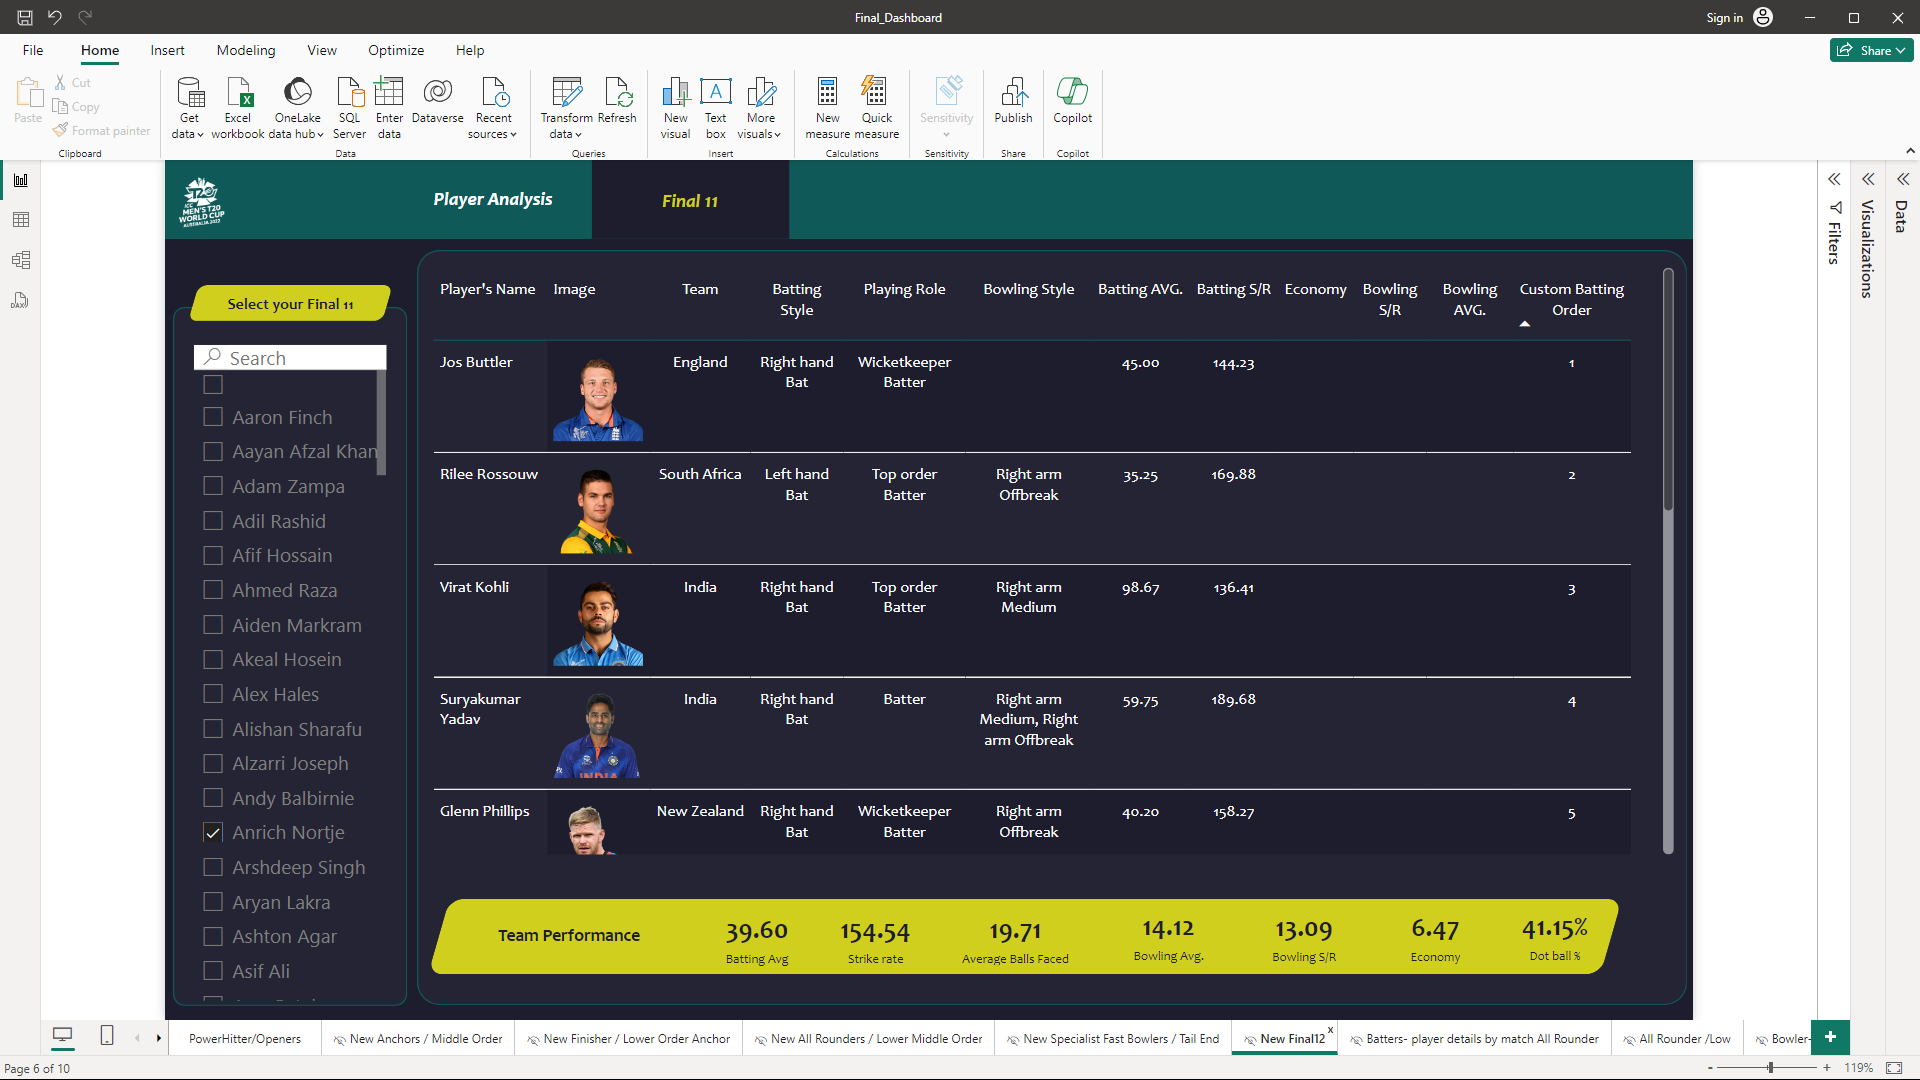

Layout of this report page (visuals, bound fields, positions):
{"tool":"powerbi","page":{"name":"New Final12","canvas":[1280,720],"ordinal":5},"visuals":[{"type":"shape","box":[0,66,1280,654],"z":0},{"type":"image","box":[6.9,6.9,48,58.8],"z":1000},{"type":"shape","box":[7,122.9,196,585.1],"z":1000,"group":"g1"},{"type":"shape","box":[210.7,75.5,1063.4,632.2],"z":2000},{"type":"actionButton","title":"Button Player Ana selected","box":[357,0,166,66],"z":3000},{"type":"actionButton","title":"Button Player Ana selected","box":[191.4,0,165.7,65.7],"z":4000},{"type":"group","id":"g1","title":"Group 1","box":[7,122.9,196,585.1],"z":6000},{"type":"shape","box":[19.6,104.9,171.5,30.4],"z":7000},{"type":"pivotTable","fields":{"Values":["Min(dim_player.team)","Min(dim_player.Batting Style)","Min(dim_player.Playing Role)","Min(dim_player.Bowling Style)","Key_Measures.Bat Avg","Key_Measures.Strike rate","Key_Measures.Economy","Key_Measures.Bowling Strike Rate","Key_Measures.Bowling Average","Sum(dim_player.Custom Batting Order)"],"Rows":["dim_player.name","dim_player.image"]},"box":[219.9,85.4,1048,501.1],"z":8000},{"type":"shape","box":[219.9,618.4,999.7,63],"z":9000},{"type":"card","fields":{"Values":["Key_Measures.Strike rate"]},"box":[548.4,620.2,93,60],"z":10000},{"type":"slicer","fields":{"Values":["dim_player.name"]},"box":[19.7,149.3,170.5,558.7],"z":11000,"group":"g1"},{"type":"card","fields":{"Values":["Key_Measures.Avergate Balls Faced"]},"box":[657.3,621.9,109.5,56.9],"z":11000},{"type":"card","fields":{"Values":["Key_Measures.Bat Avg"]},"box":[449.4,620.2,92,60],"z":12000},{"type":"card","fields":{"Values":["Key_Measures.Bowling Strike Rate"]},"box":[907.4,618.4,92.3,60.4],"z":13000},{"type":"card","fields":{"Values":["Key_Measures.Economy"]},"box":[1012.6,618.4,100.9,60.4],"z":14000},{"type":"card","fields":{"Values":["Key_Measures.Dot ball %"]},"box":[1113.5,617.6,100.1,60.4],"z":15000},{"type":"card","fields":{"Values":["Key_Measures.Bowling Average"]},"box":[794.4,617.6,91.4,60.4],"z":16000},{"type":"shape","box":[251.8,632.1,172.5,34.3],"z":17000}]}

Visuals, with their boxes on the page's 1280x720 design canvas (x1, y1, x2, y2). These are canvas units, not pixel positions in the 1920x1080 screenshot, which may show the page scaled, cropped or inside an application window:
shape: (x1=0, y1=66, x2=1280, y2=720)
image: (x1=7, y1=7, x2=55, y2=66)
shape: (x1=7, y1=123, x2=203, y2=708)
shape: (x1=211, y1=76, x2=1274, y2=708)
"Button Player Ana selected" actionButton: (x1=357, y1=0, x2=523, y2=66)
"Button Player Ana selected" actionButton: (x1=191, y1=0, x2=357, y2=66)
"Group 1" group: (x1=7, y1=123, x2=203, y2=708)
shape: (x1=20, y1=105, x2=191, y2=135)
pivotTable - Min(dim_player.team) x Min(dim_player.Batting Style): (x1=220, y1=85, x2=1268, y2=586)
shape: (x1=220, y1=618, x2=1220, y2=681)
card - Key_Measures.Strike rate: (x1=548, y1=620, x2=641, y2=680)
slicer - dim_player.name: (x1=20, y1=149, x2=190, y2=708)
card - Key_Measures.Avergate Balls Faced: (x1=657, y1=622, x2=767, y2=679)
card - Key_Measures.Bat Avg: (x1=449, y1=620, x2=541, y2=680)
card - Key_Measures.Bowling Strike Rate: (x1=907, y1=618, x2=1000, y2=679)
card - Key_Measures.Economy: (x1=1013, y1=618, x2=1114, y2=679)
card - Key_Measures.Dot ball %: (x1=1114, y1=618, x2=1214, y2=678)
card - Key_Measures.Bowling Average: (x1=794, y1=618, x2=886, y2=678)
shape: (x1=252, y1=632, x2=424, y2=666)
